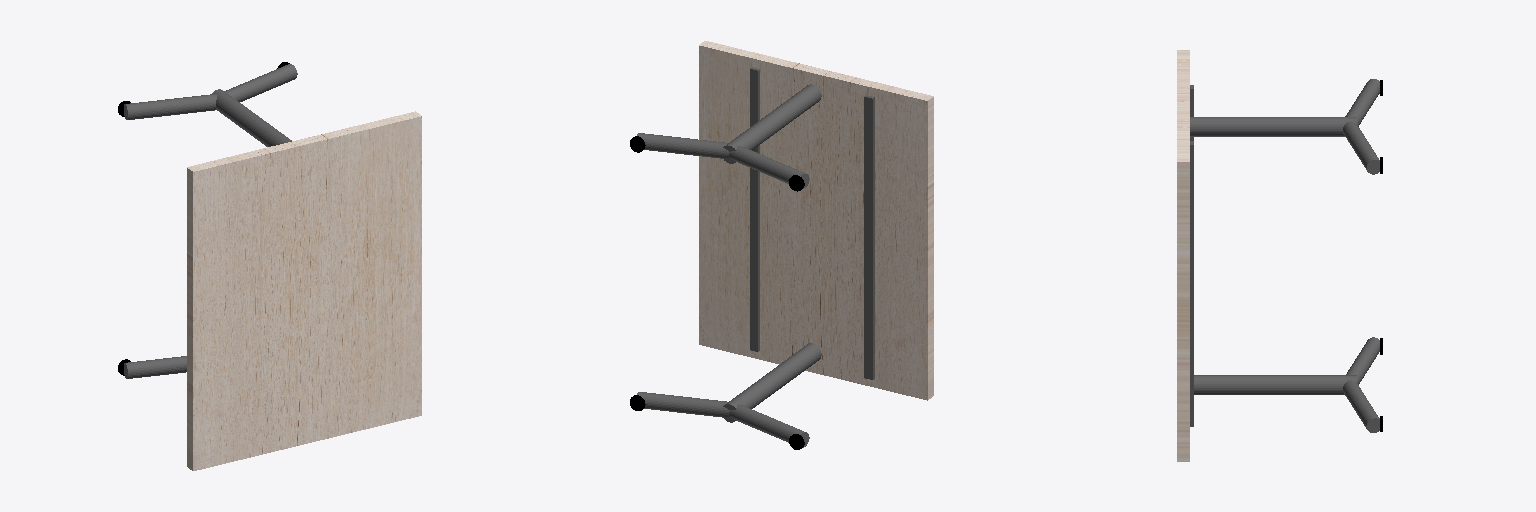
The picture shows the model from 3 angles: view 1: azimuth 30°, elevation 25°; view 2: azimuth 150°, elevation 25°; view 3: azimuth 270°, elevation 25°; orthographic projection.
Bounding box in the file's own units: 0.8 × 1 × 0.626.
Materials: 15 (1 with a texture image).